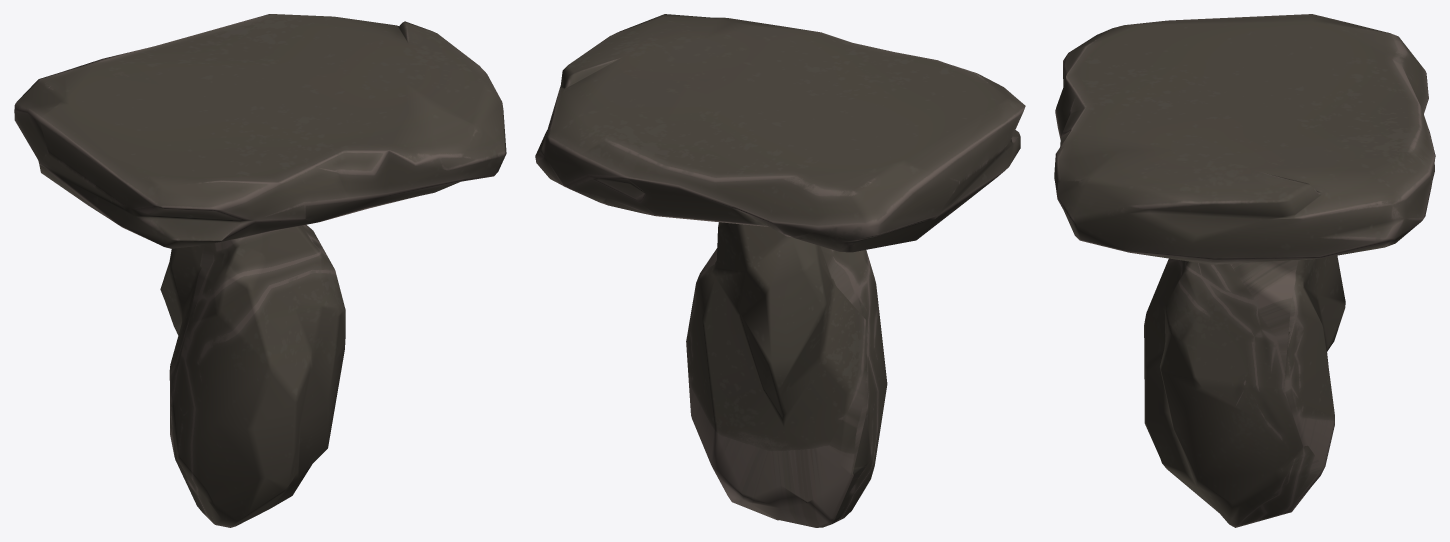
Rendered from Udrock02.fbx.
The picture shows the model from 3 angles, left to right: view 1: azimuth 30°, elevation 25°; view 2: azimuth 150°, elevation 25°; view 3: azimuth 270°, elevation 25°; orthographic projection.
Parts seen in each view (by area): view 1: RockFlat2, RockLong2; view 2: RockFlat2, RockLong2; view 3: RockFlat2, RockLong2.
Boxes of the visible parts, <box> form: RockFlat2: <box>14,14,506,248</box>; RockLong2: <box>160,224,345,527</box>; RockFlat2: <box>535,14,1025,252</box>; RockLong2: <box>686,222,887,527</box>; RockFlat2: <box>1054,14,1435,264</box>; RockLong2: <box>1144,255,1345,527</box>.
Size of the model in its own units: 970 by 1005 by 795.
1 material, 1 textured.
